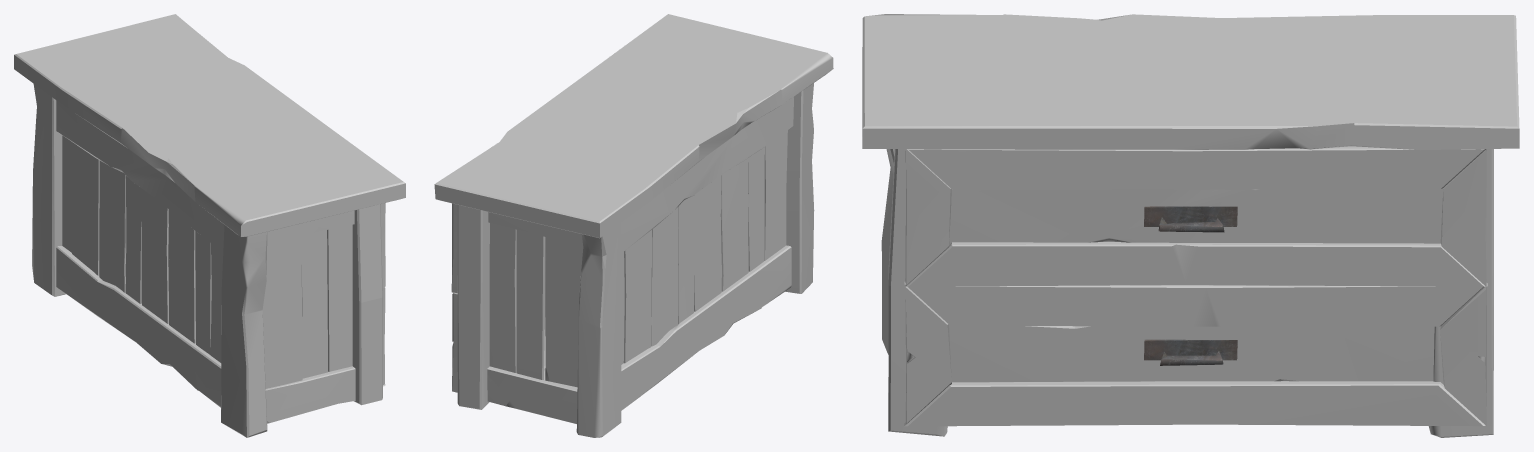
File: SM_Drawer_01.fbx
The picture shows the model from 3 angles, left to right: view 1: azimuth 30°, elevation 25°; view 2: azimuth 150°, elevation 25°; view 3: azimuth 270°, elevation 25°; orthographic projection. The views are drawn at different scales.
Visible parts, largest first — view 1: SM_Drawer_01_LOD0; view 2: SM_Drawer_01_LOD0; view 3: SM_Drawer_01_LOD0.
Part boxes in pixels (x1,y1,x2,y2): SM_Drawer_01_LOD0: [14, 14, 405, 437]; SM_Drawer_01_LOD0: [434, 14, 833, 437]; SM_Drawer_01_LOD0: [862, 14, 1519, 437].
Size of the model in its own units: 73.47 by 168 by 90.34.
